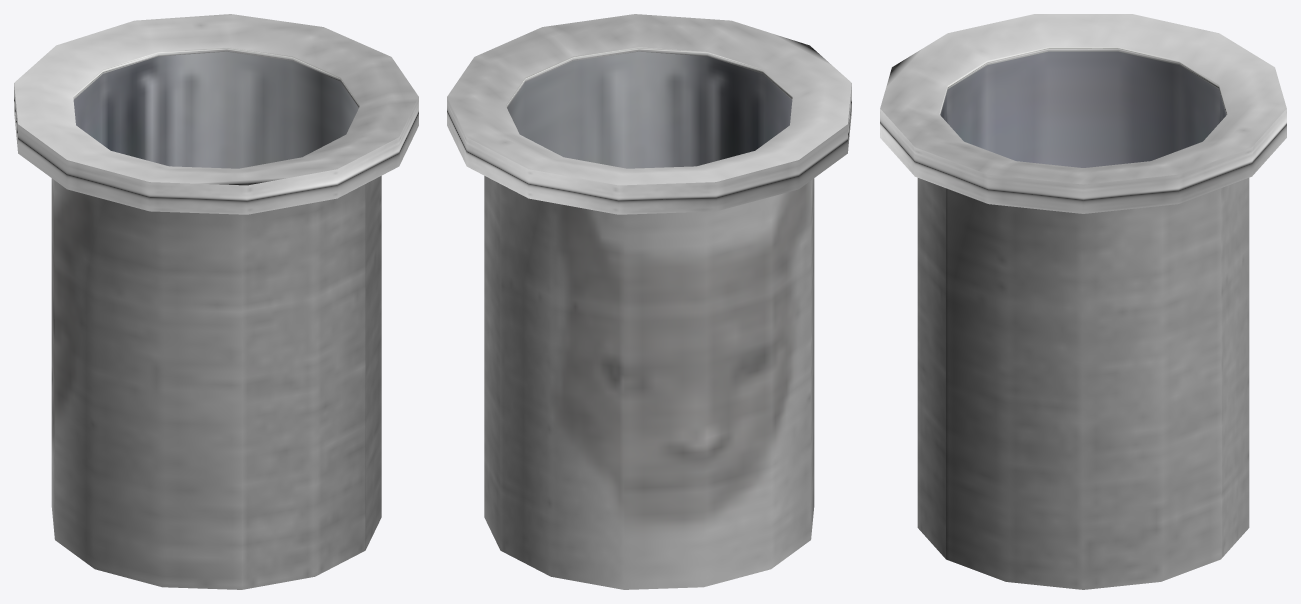
The model's file is Bin.fbx.
3 renders of one model, left to right at view 1: azimuth 30°, elevation 25°; view 2: azimuth 150°, elevation 25°; view 3: azimuth 270°, elevation 25°, orthographic.
Parts seen in each view (by area): view 1: bin; view 2: bin; view 3: bin.
Boxes of the visible parts, left/top/right/bottom form: bin: left=14, top=14, right=418, bottom=589; bin: left=447, top=14, right=851, bottom=589; bin: left=880, top=14, right=1286, bottom=589.
Bounding box in the file's own units: 5.48 × 6.31 × 5.52.
1 material, 1 textured.
